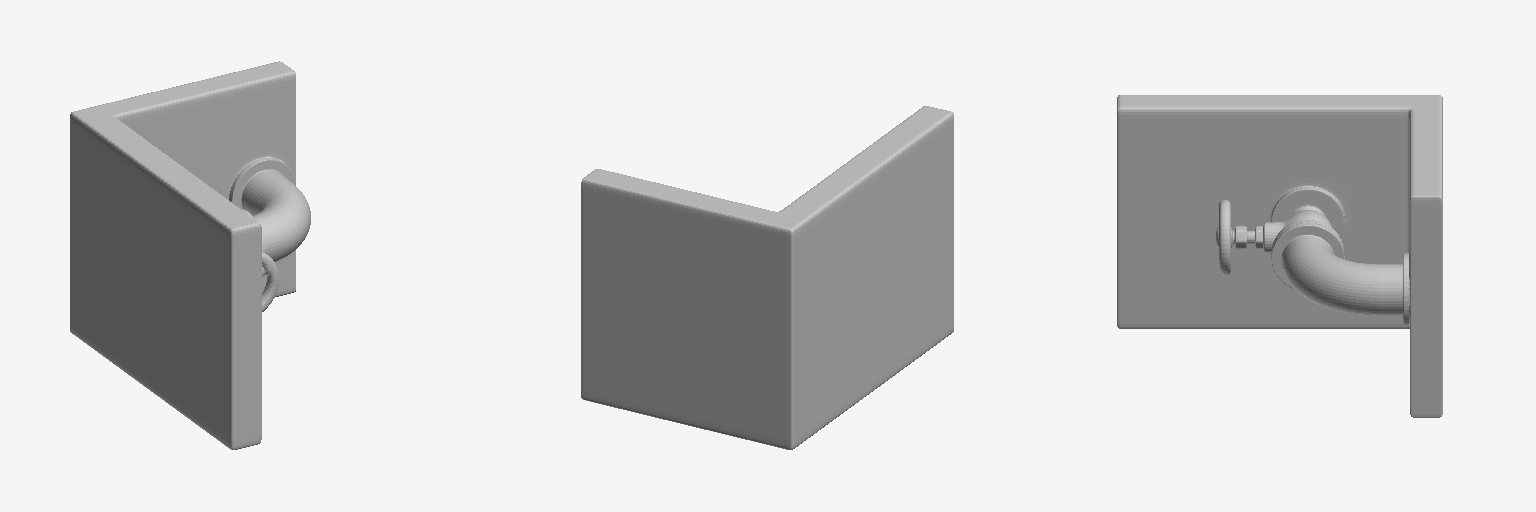
File: 15329_Bookend_Water_Pipe_Elbow_v2.obj
The picture shows the model from 3 angles: view 1: azimuth 30°, elevation 25°; view 2: azimuth 150°, elevation 25°; view 3: azimuth 270°, elevation 25°; orthographic projection.
Visible parts, largest first — view 1: objBookend_L; view 2: objBookend_L; view 3: objBookend_L.
Part boxes in pixels (x1,y1,x2,y2): objBookend_L: (70,61,310,449); objBookend_L: (581,106,953,449); objBookend_L: (1117,95,1442,417).
Size of the model in its own units: 12 by 12 by 16.